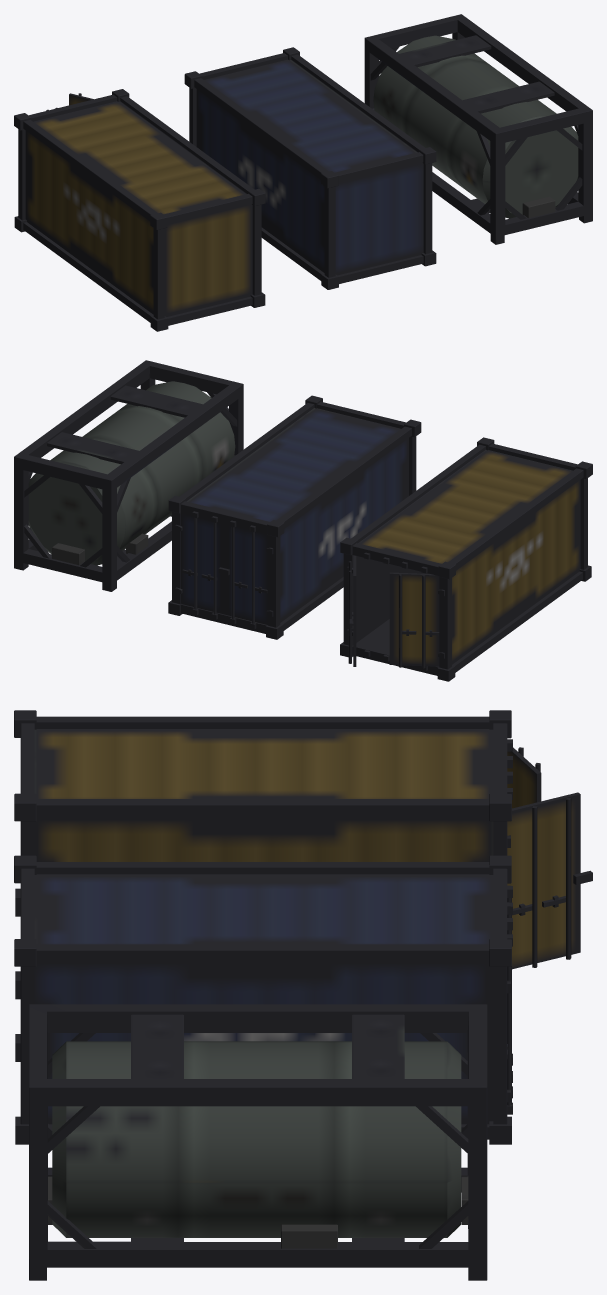
The model's file is shipping_containers.fbx.
3 views of the same model, one above another, from view 1: azimuth 30°, elevation 25°; view 2: azimuth 150°, elevation 25°; view 3: azimuth 270°, elevation 25° (orthographic). The views are drawn at different scales.
Visible parts, largest first — view 1: shipping_container_open, shipping_container_shipping_container, shipping_container_fuel; view 2: shipping_container_open, shipping_container_shipping_container, shipping_container_fuel; view 3: shipping_container_fuel, shipping_container_open, shipping_container_shipping_container.
Boxes of the visible parts, left/top/right/bottom form: shipping_container_open: left=14, top=89, right=265, bottom=331; shipping_container_shipping_container: left=184, top=47, right=436, bottom=289; shipping_container_fuel: left=364, top=14, right=592, bottom=244; shipping_container_open: left=340, top=437, right=592, bottom=681; shipping_container_shipping_container: left=168, top=395, right=421, bottom=639; shipping_container_fuel: left=14, top=360, right=243, bottom=591; shipping_container_fuel: left=29, top=1004, right=487, bottom=1280; shipping_container_open: left=14, top=710, right=592, bottom=999; shipping_container_shipping_container: left=14, top=855, right=512, bottom=1144.
Bounding box in the file's own units: 1150 × 280 × 747.
1 material, 1 textured.
